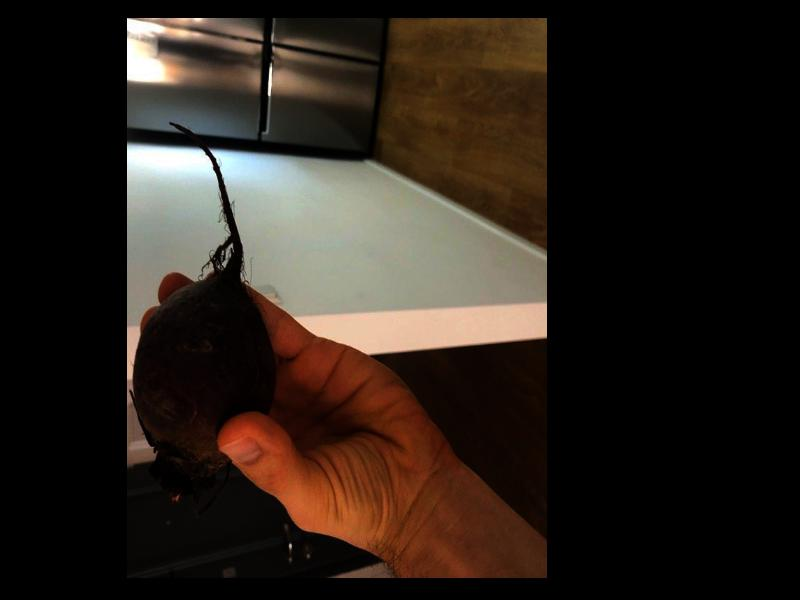Beet: (129, 123, 273, 515)
